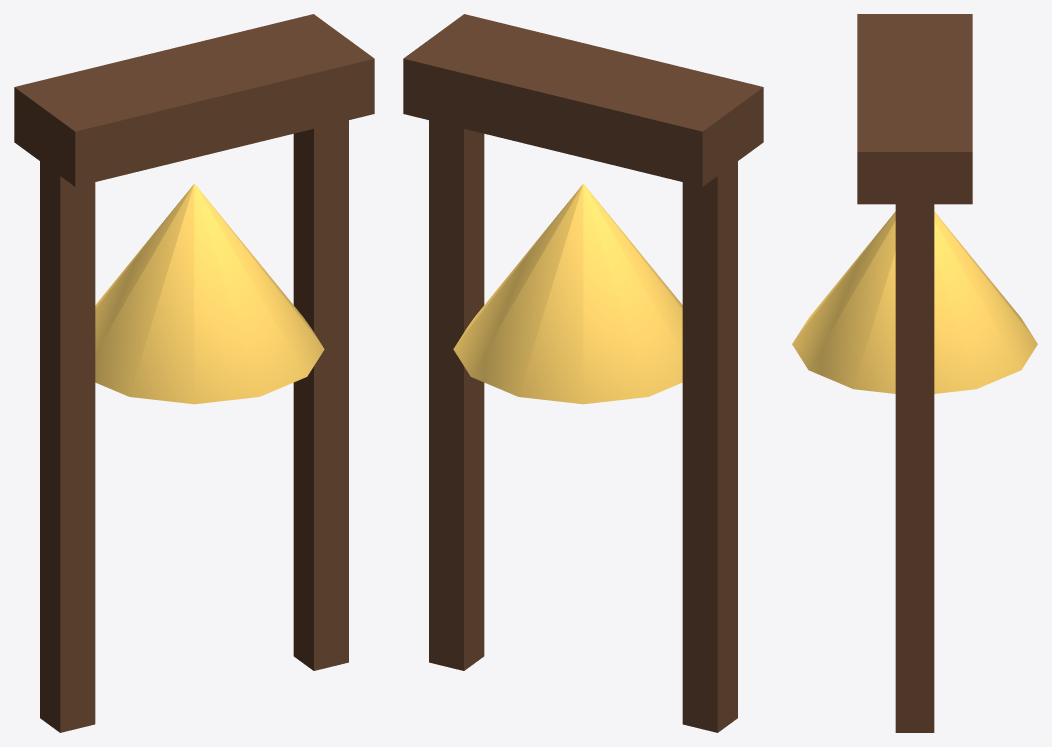
The model's file is abbey_bell.glb.
3 renders of one model, left to right at view 1: azimuth 30°, elevation 25°; view 2: azimuth 150°, elevation 25°; view 3: azimuth 270°, elevation 25°, orthographic. The views are drawn at different scales.
Visible parts, largest first — view 1: post (×2), frame, bronze_bell; view 2: post (×2), frame, bronze_bell; view 3: bronze_bell, frame, post.
Part boxes in pixels (left/top/right/bottom): post (×2): left=40, top=120, right=348, bottom=732; frame: left=14, top=14, right=374, bottom=186; bronze_bell: left=95, top=183, right=324, bottom=404; post (×2): left=429, top=120, right=737, bottom=732; frame: left=403, top=14, right=763, bottom=186; bronze_bell: left=453, top=183, right=682, bottom=404; bronze_bell: left=792, top=211, right=1037, bottom=393; frame: left=857, top=14, right=972, bottom=204; post: left=895, top=204, right=934, bottom=732.
Bounding box in the file's own units: 0.85 × 1.68 × 0.64.
